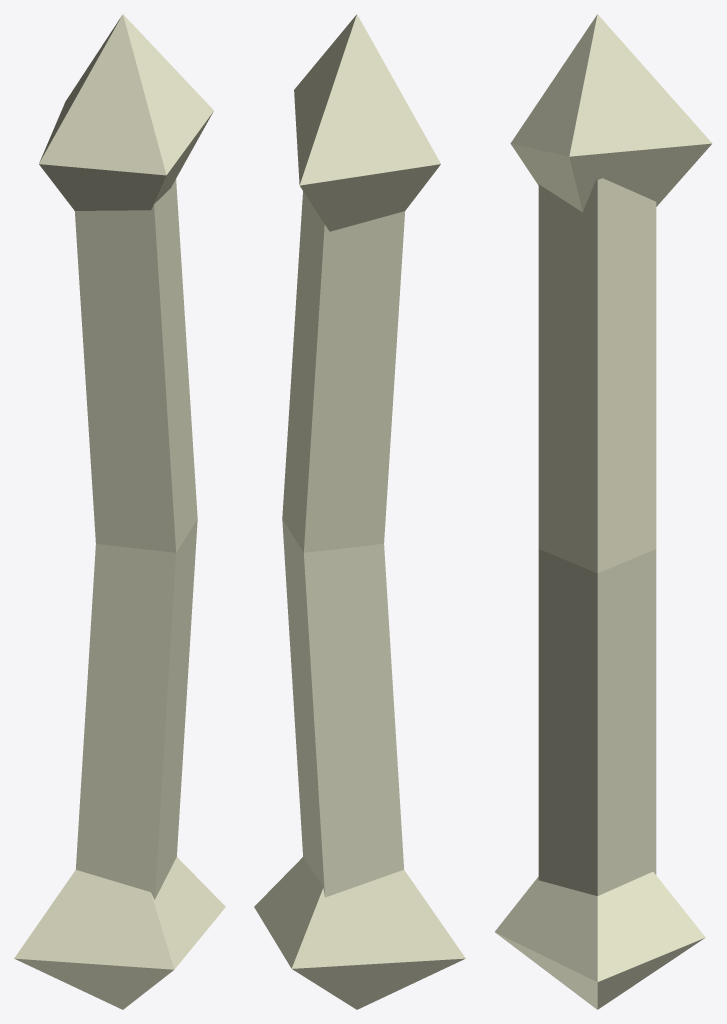
Rendered from bone1.fbx.
3 views of the same model, side by side, from view 1: azimuth 30°, elevation 25°; view 2: azimuth 150°, elevation 25°; view 3: azimuth 270°, elevation 25° (orthographic).
Parts seen in each view (by area): view 1: bone1; view 2: bone1; view 3: bone1.
Part boxes in pixels (x1,y1,x2,y2): bone1: [14, 14, 225, 1009]; bone1: [254, 14, 465, 1009]; bone1: [495, 14, 712, 1009].
Size of the model in its own units: 16.66 by 74.82 by 14.84.
